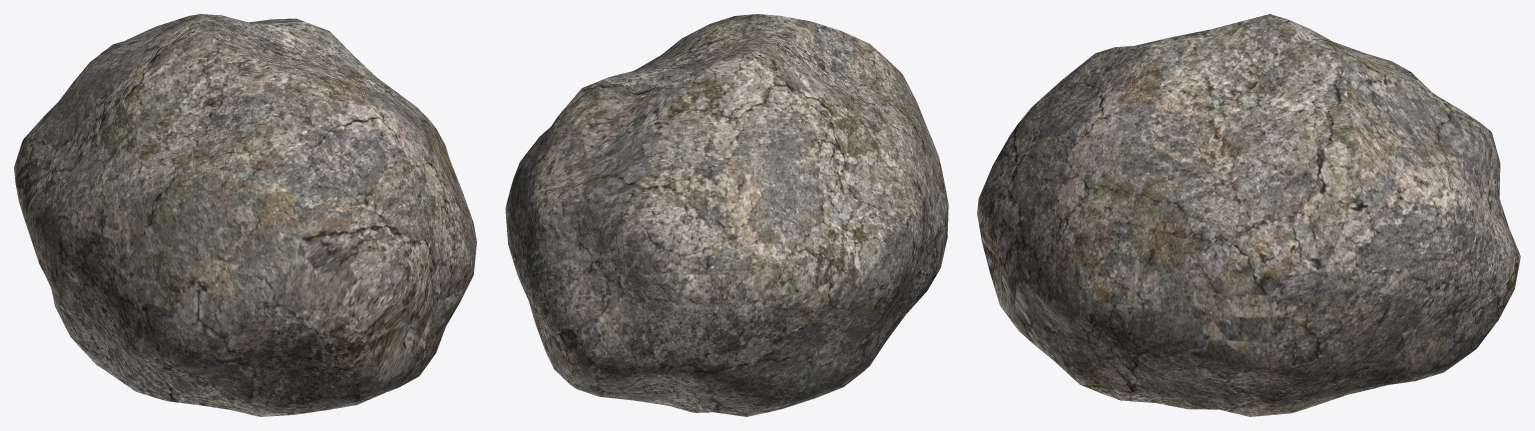
Rendered from rock_1.fbx.
The picture shows the model from 3 angles, left to right: view 1: azimuth 30°, elevation 25°; view 2: azimuth 150°, elevation 25°; view 3: azimuth 270°, elevation 25°; orthographic projection. The views are drawn at different scales.
Visible parts, largest first — view 1: rock_1; view 2: rock_1; view 3: rock_1.
Boxes of the visible parts, bbox=[...] form: rock_1: bbox=[14, 14, 476, 416]; rock_1: bbox=[505, 14, 948, 416]; rock_1: bbox=[977, 14, 1520, 416].
Size of what is drawn, in the model's own units: 1.84 by 1.5 by 2.29.
1 material, 1 textured.
